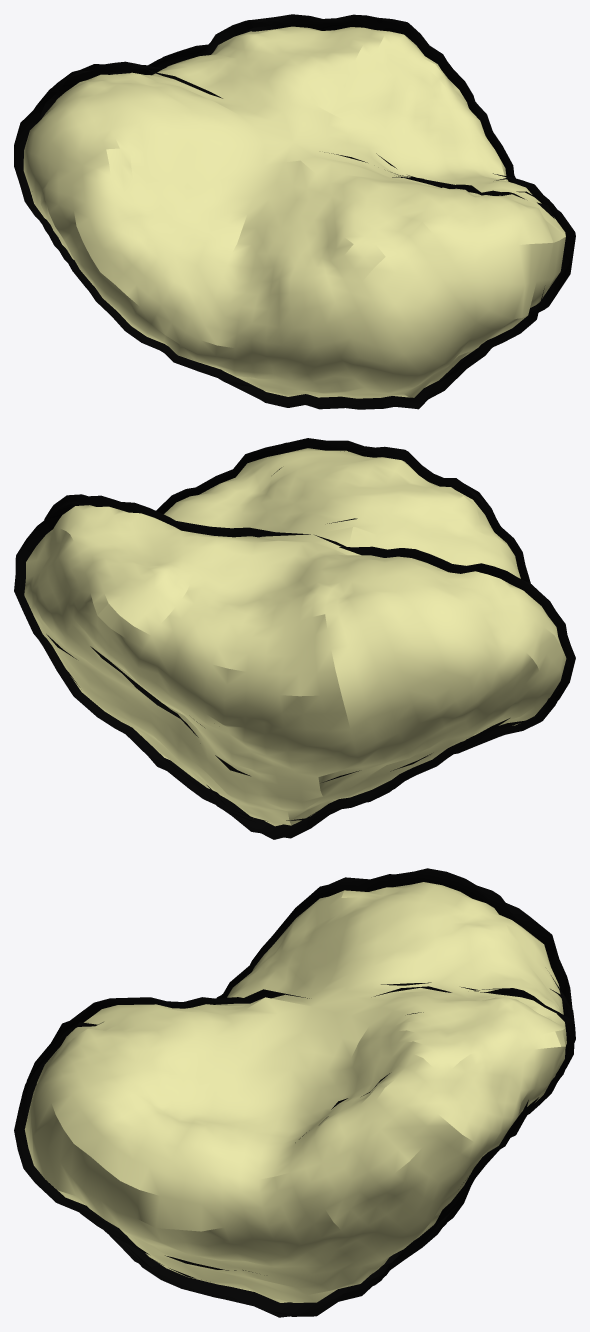
File: Rock_1.fbx
3 views of the same model, one above another, from view 1: azimuth 30°, elevation 25°; view 2: azimuth 150°, elevation 25°; view 3: azimuth 270°, elevation 25° (orthographic). The views are drawn at different scales.
Parts seen in each view (by area): view 1: Rock_1_Base, Rock_1_Hull; view 2: Rock_1_Base, Rock_1_Hull; view 3: Rock_1_Base, Rock_1_Hull.
Boxes of the visible parts, x1,y1,x2,y2 form: Rock_1_Base: [23, 26, 565, 398]; Rock_1_Hull: [14, 14, 575, 409]; Rock_1_Base: [24, 448, 566, 826]; Rock_1_Hull: [14, 438, 575, 839]; Rock_1_Base: [24, 882, 566, 1302]; Rock_1_Hull: [14, 868, 575, 1317].
Bounding box in the file's own units: 1371 × 1400 × 894.
